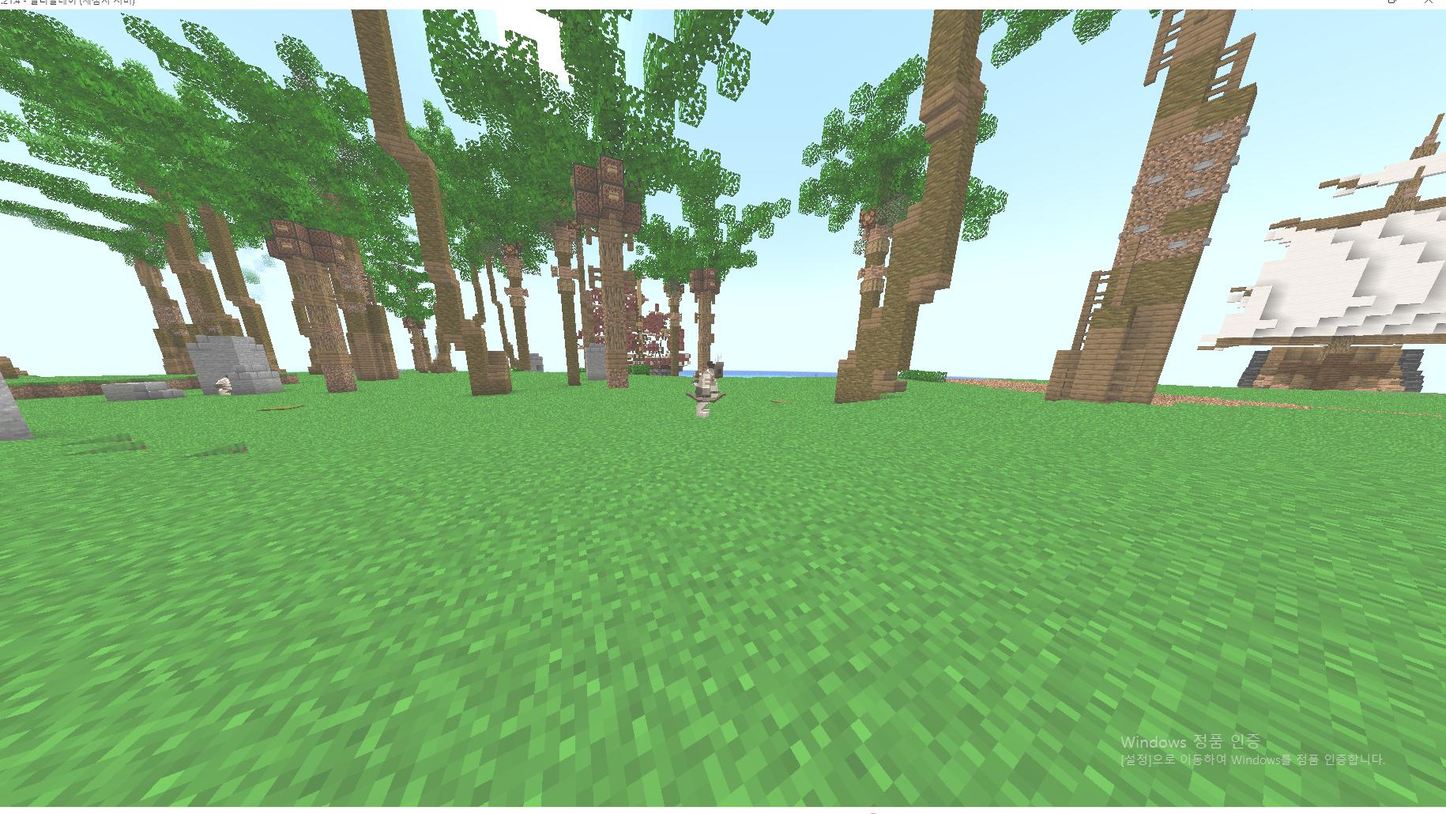bow_indian: (679, 356, 745, 429)
